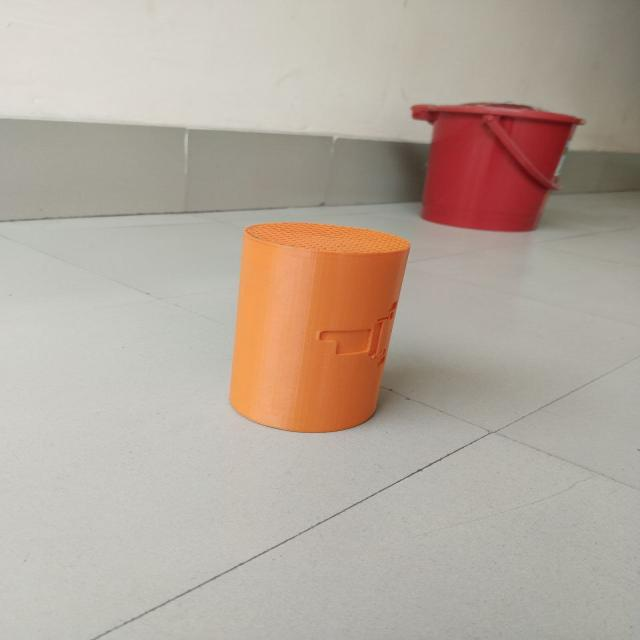Cylinder: (228, 221, 411, 433), (410, 100, 586, 232)
